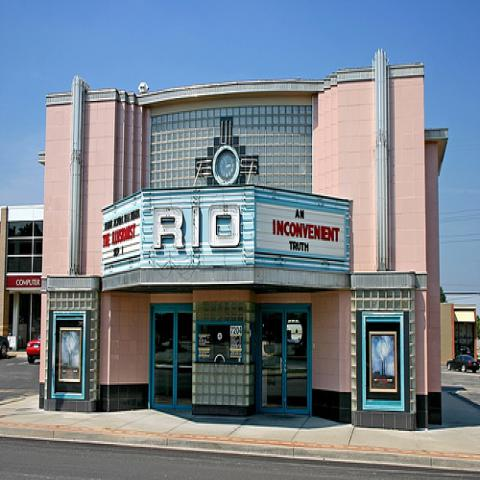car: (446, 354, 479, 373), (27, 337, 41, 356)
